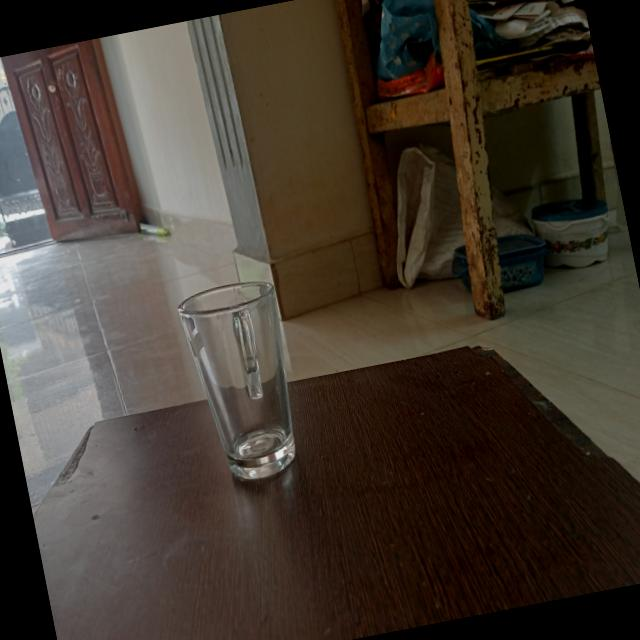glass-VX4N: (172, 258, 314, 500)
